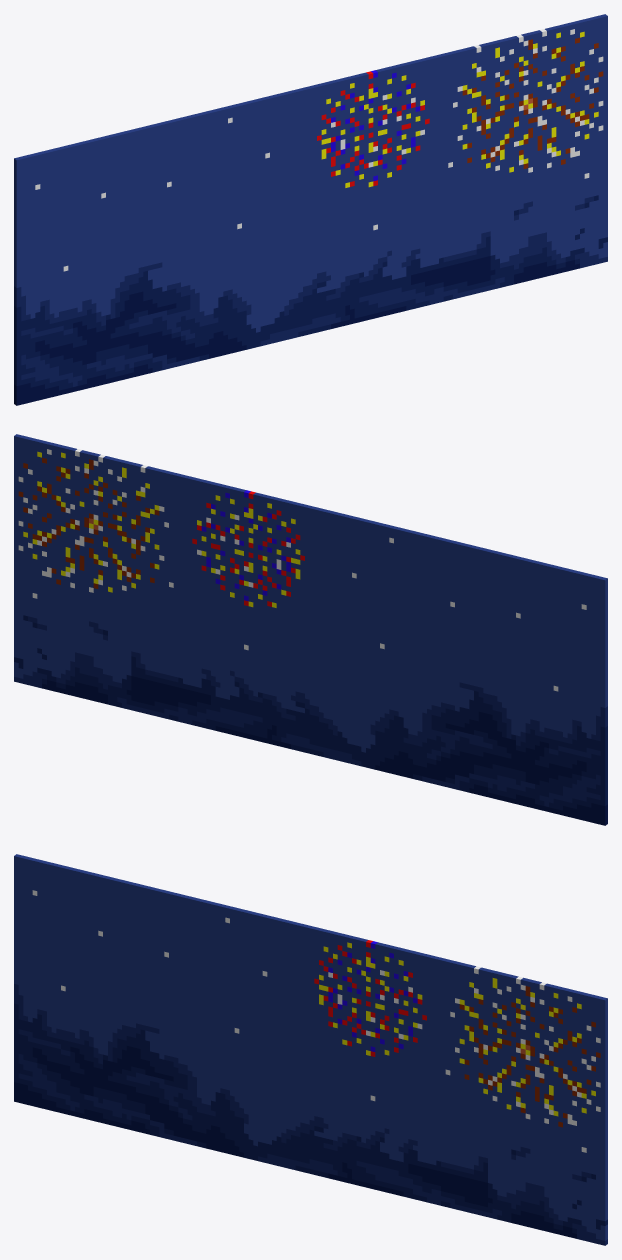
Rendered from haikei3_1.fbx.
The picture shows the model from 3 angles, top to bottom: view 1: azimuth 30°, elevation 25°; view 2: azimuth 150°, elevation 25°; view 3: azimuth 330°, elevation 25°; orthographic projection.
Visible parts, largest first — view 1: ObjObject.001; view 2: ObjObject.001; view 3: ObjObject.001.
Boxes of the visible parts, <box> form: ObjObject.001: <box>14,14,607,405</box>; ObjObject.001: <box>14,434,607,825</box>; ObjObject.001: <box>14,854,607,1245</box>.
Size of the model in its own units: 1260 by 500 by 10.
Materials: 1 (1 with a texture image).
